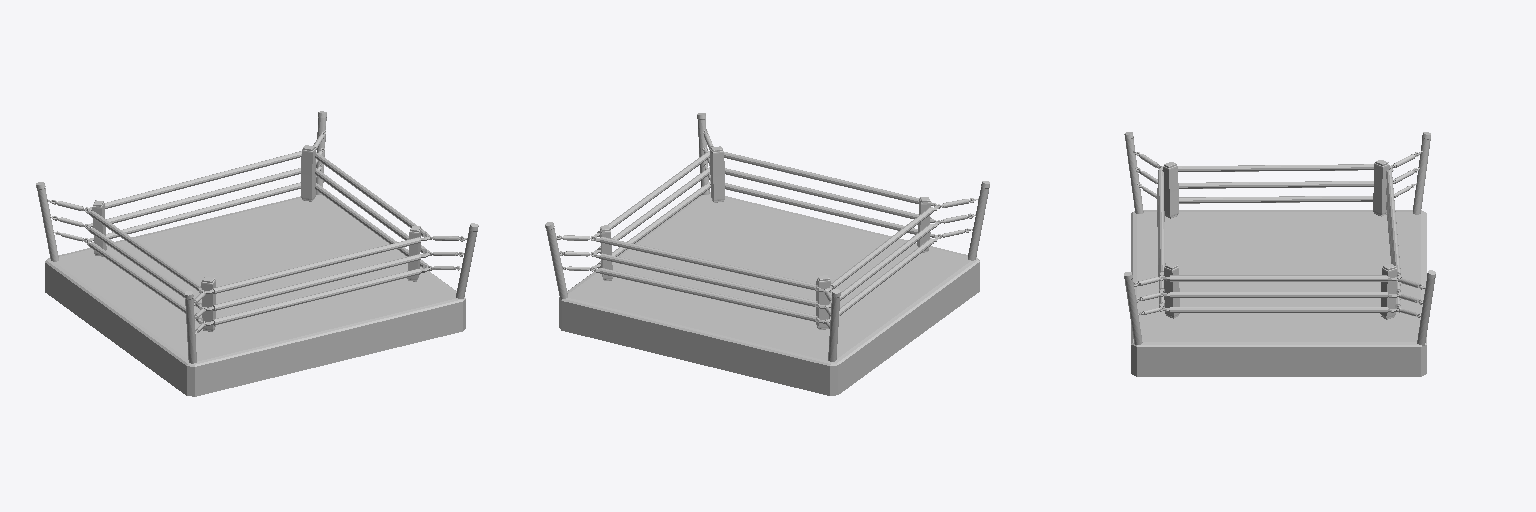
File: boxingring002.obj
3 renders of one model, left to right at view 1: azimuth 30°, elevation 25°; view 2: azimuth 150°, elevation 25°; view 3: azimuth 270°, elevation 25°, orthographic.
Parts seen in each view (by area): view 1: Cube_Cube, Cylinder.050_Cylinder.055, Cylinder.039_Cylinder.044, Cylinder.030_Cylinder.035, Cylinder.100_Cylinder.105, Cylinder.089_Cylinder.094, Cylinder.080_Cylinder.085, Cylinder.059_Cylinder.064, Cube.002_Cube.006, Cylinder.008_Cylinder.032, Cylinder.079_Cylinder.084, Cylinder.070_Cylinder.075 (+6 smaller); view 2: Cube_Cube, Cylinder.080_Cylinder.085, Cylinder.100_Cylinder.105, Cylinder.089_Cylinder.094, Cylinder.050_Cylinder.055, Cylinder.039_Cylinder.044, Cylinder.030_Cylinder.035, Cylinder.059_Cylinder.064, Cube.004_Cube.007, Cylinder.008_Cylinder.032, Cylinder.079_Cylinder.084, Cylinder.020_Cylinder.033 (+5 smaller); view 3: Cube_Cube, Cylinder.008_Cylinder.032, Cylinder.020_Cylinder.033, Cylinder.029_Cylinder.034, Cylinder.059_Cylinder.064, Cylinder.070_Cylinder.075, Cylinder.079_Cylinder.084, Cube.003_Cube.003, Cube.001_Cube.005, Cylinder.003_Cylinder.015, Cylinder.001_Cylinder.001, Cylinder.002_Cylinder.014 (+5 smaller).
Part boxes in pixels (x1,y1,x2,y2): Cube_Cube: (45,195,465,396); Cylinder.050_Cylinder.055: (213,237,420,293); Cylinder.039_Cylinder.044: (213,254,420,310); Cylinder.030_Cylinder.035: (212,269,420,325); Cylinder.100_Cylinder.105: (105,151,301,208); Cylinder.089_Cylinder.094: (106,168,300,223); Cylinder.080_Cylinder.085: (106,182,300,238); Cylinder.059_Cylinder.064: (89,211,200,290); Cube.002_Cube.006: (301,145,315,201); Cylinder.008_Cylinder.032: (315,153,426,237); Cylinder.079_Cylinder.084: (89,242,202,321); Cylinder.070_Cylinder.075: (89,227,201,306); Cube_Cube: (559,192,979,395); Cylinder.080_Cylinder.085: (600,268,817,321); Cylinder.100_Cylinder.105: (600,237,817,290); Cylinder.089_Cylinder.094: (600,253,817,306); Cylinder.050_Cylinder.055: (724,152,930,203); Cylinder.039_Cylinder.044: (725,168,931,218); Cylinder.030_Cylinder.035: (725,183,930,234); Cylinder.059_Cylinder.064: (831,207,933,289); Cube.004_Cube.007: (710,146,724,202); Cylinder.008_Cylinder.032: (597,152,709,236); Cylinder.079_Cylinder.084: (829,238,933,318); Cylinder.020_Cylinder.033: (597,168,709,253); Cube_Cube: (1131,210,1426,376); Cylinder.008_Cylinder.032: (1170,275,1387,281); Cylinder.020_Cylinder.033: (1170,292,1387,297); Cylinder.029_Cylinder.034: (1170,307,1387,312); Cylinder.059_Cylinder.064: (1178,164,1373,171); Cylinder.070_Cylinder.075: (1179,181,1373,188); Cylinder.079_Cylinder.084: (1179,196,1372,203); Cube.003_Cube.003: (1163,162,1178,218); Cube.001_Cube.005: (1373,160,1389,216); Cylinder.003_Cylinder.015: (1413,132,1430,214); Cylinder.001_Cylinder.001: (1124,132,1143,213); Cylinder.002_Cylinder.014: (1417,270,1435,345).
Size of the model in its own units: 18.92 by 6.67 by 17.49.